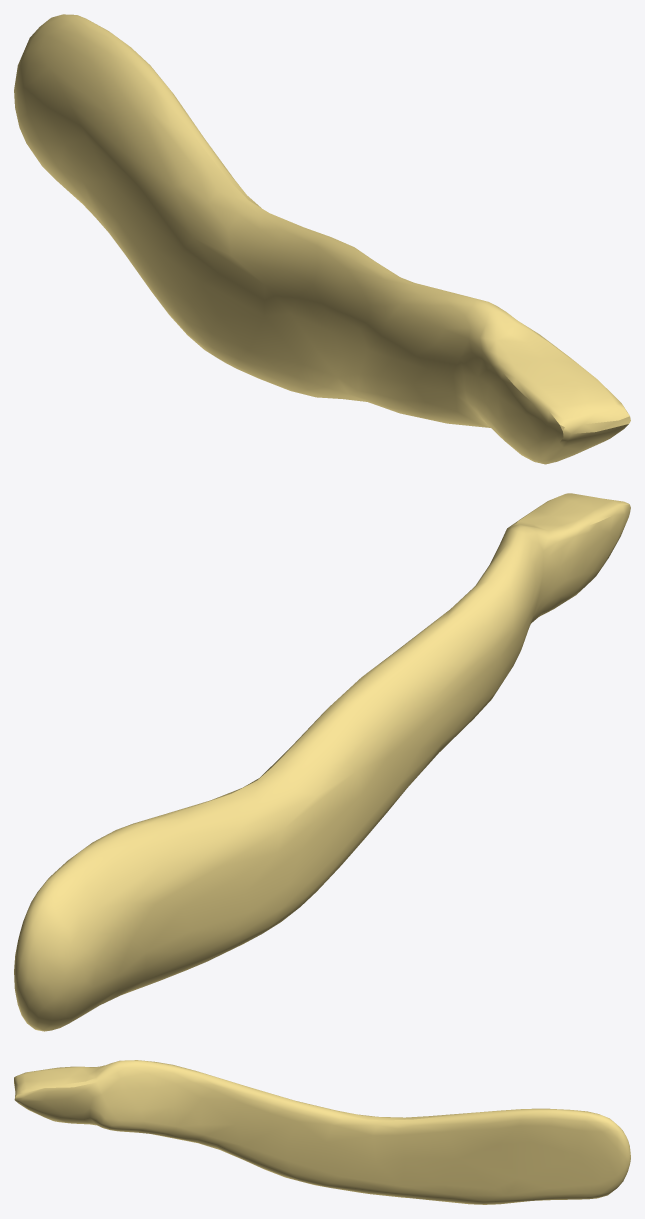
The model's file is fma62153-l_mm2796.glb.
3 views of the same model, one above another, from view 1: azimuth 30°, elevation 25°; view 2: azimuth 150°, elevation 25°; view 3: azimuth 270°, elevation 25° (orthographic). The views are drawn at different scales.
Parts seen in each view (by area): view 1: FMA62153-L_MM2796; view 2: FMA62153-L_MM2796; view 3: FMA62153-L_MM2796.
Part boxes in pixels (left/top/right/bottom): FMA62153-L_MM2796: left=14, top=14, right=630, bottom=464; FMA62153-L_MM2796: left=14, top=493, right=630, bottom=1031; FMA62153-L_MM2796: left=14, top=1060, right=630, bottom=1204.
Size of the model in its own units: 0.00171 by 0.0034 by 0.0145.
